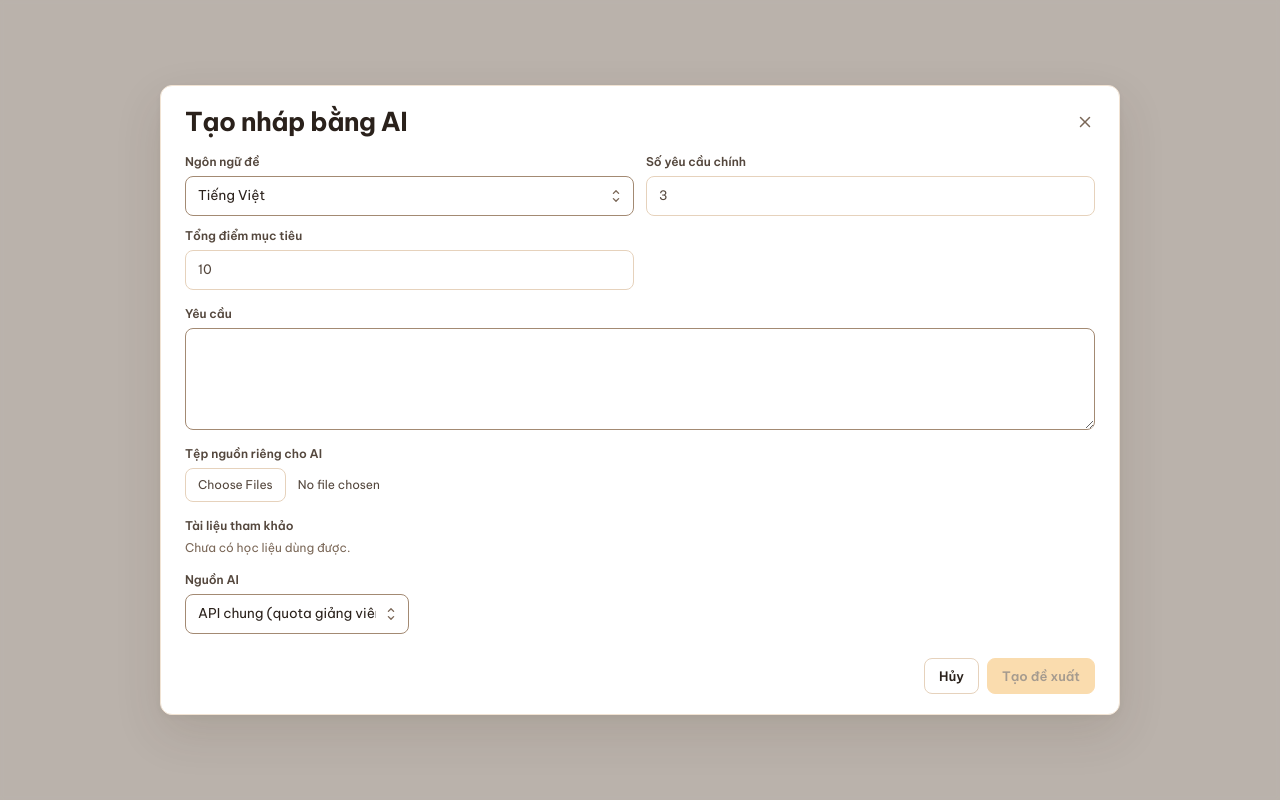
Test case: AiDraftDialog › uses safe title/instruction defaults for My existing exam
This screenshot has width=1280, height=800.
Type "Create an event exam" into the text box labelled "Yêu cầu" at (640, 379), box 185,328 -> 1095,430
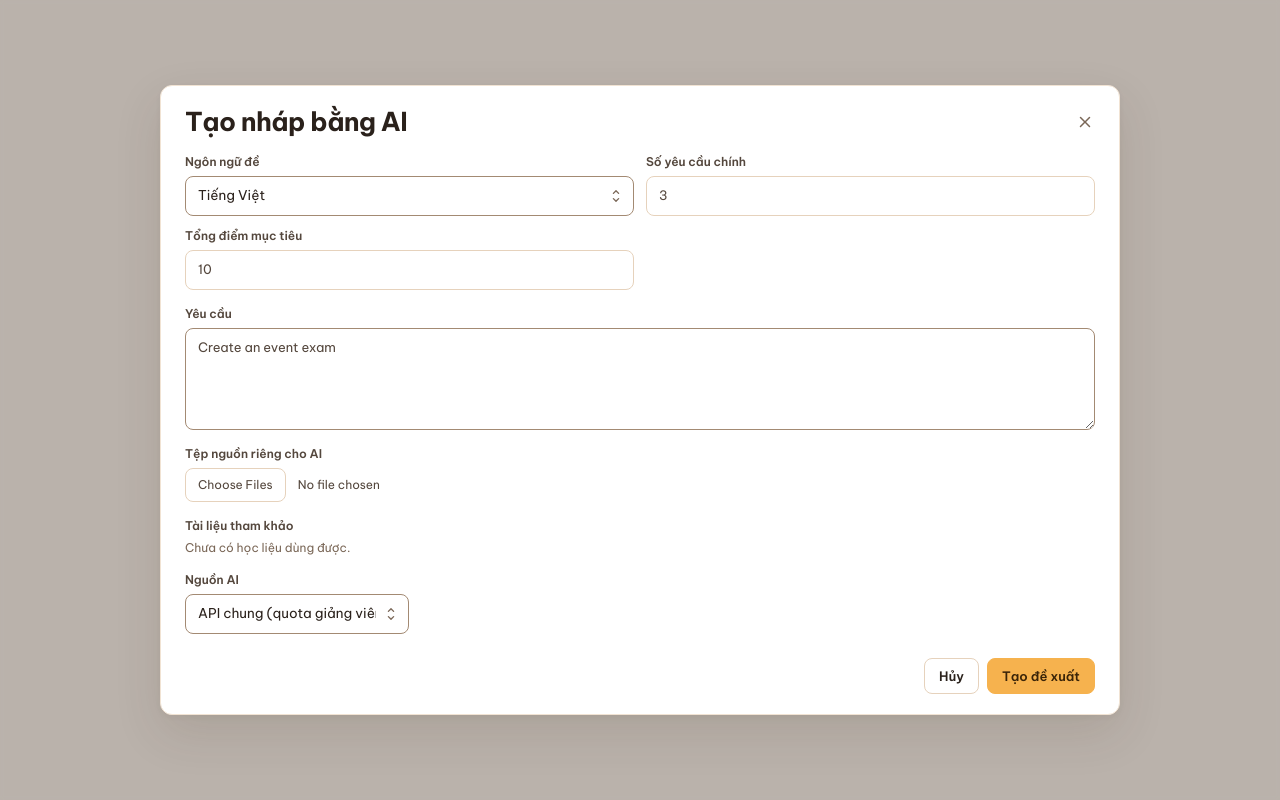
Click the button with test id "ai-send" at (1041, 676), box 987,658 -> 1095,694
(page scrolled)
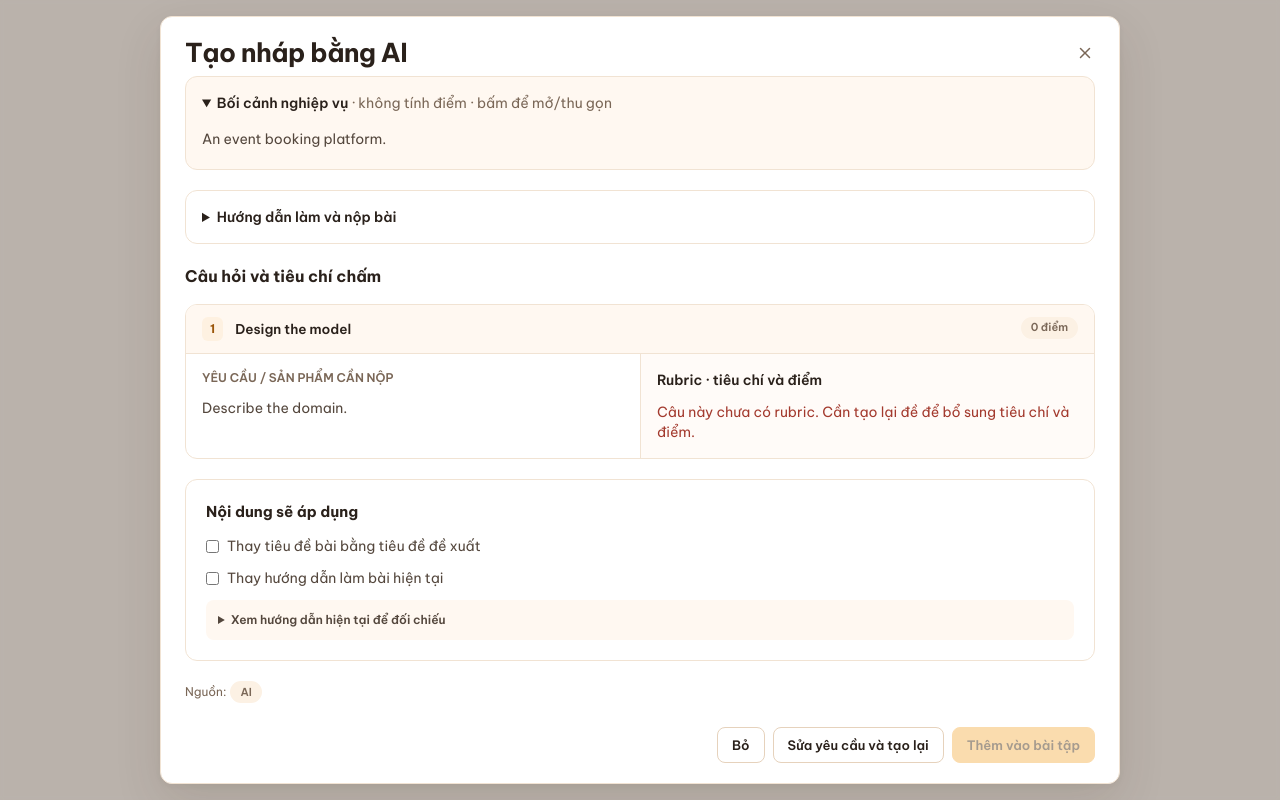
Expected: the checkbox labelled "Thay tiêu đề bài bằng tiêu đề đề xuất" is not checked, 206,540 -> 219,553
Expected: the checkbox labelled "Thay hướng dẫn làm bài hiện tại" is not checked, 206,572 -> 219,585
